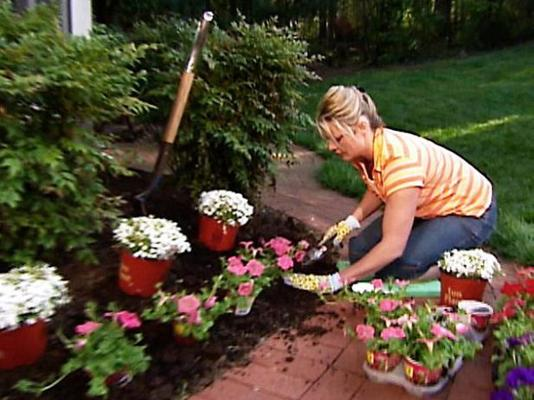person: (311, 84, 501, 293)
